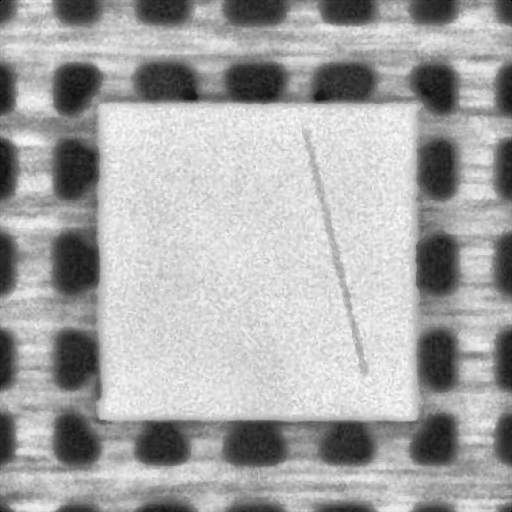DIE_CRACK: (304, 133, 363, 374)
